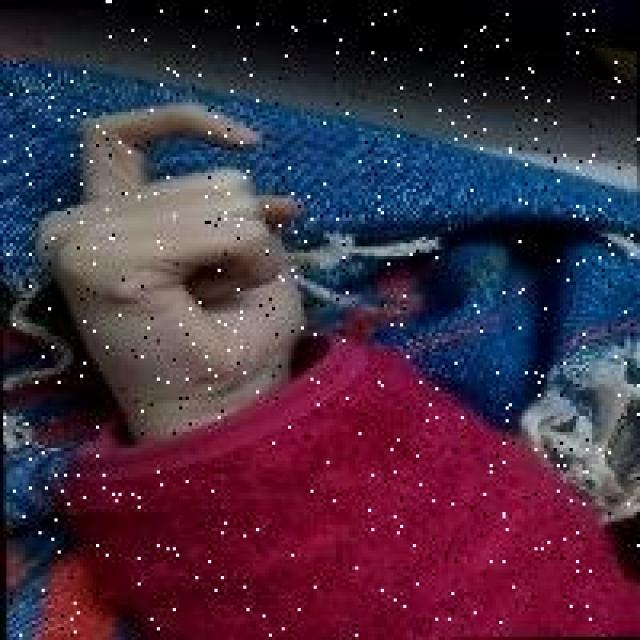X: (31, 93, 316, 387)
